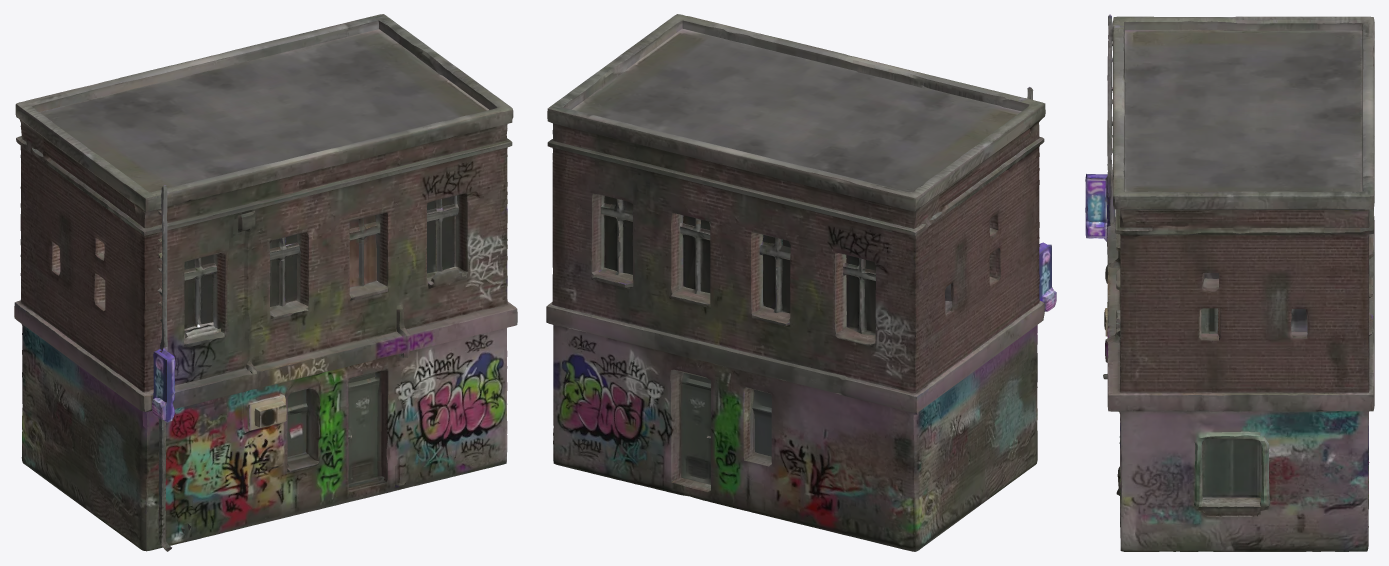
The model's file is building_2.glb.
3 views of the same model, side by side, from view 1: azimuth 30°, elevation 25°; view 2: azimuth 150°, elevation 25°; view 3: azimuth 270°, elevation 25° (orthographic).
Visible parts, largest first — view 1: Building_2; view 2: Building_2; view 3: Building_2.
Part boxes in pixels (x1,y1,x2,y2): Building_2: (14, 14, 517, 551); Building_2: (546, 14, 1056, 551); Building_2: (1085, 14, 1374, 551).
Bounding box in the file's own units: 0.5452 × 0.5127 × 0.3657.
Materials: 1 (1 with a texture image).
